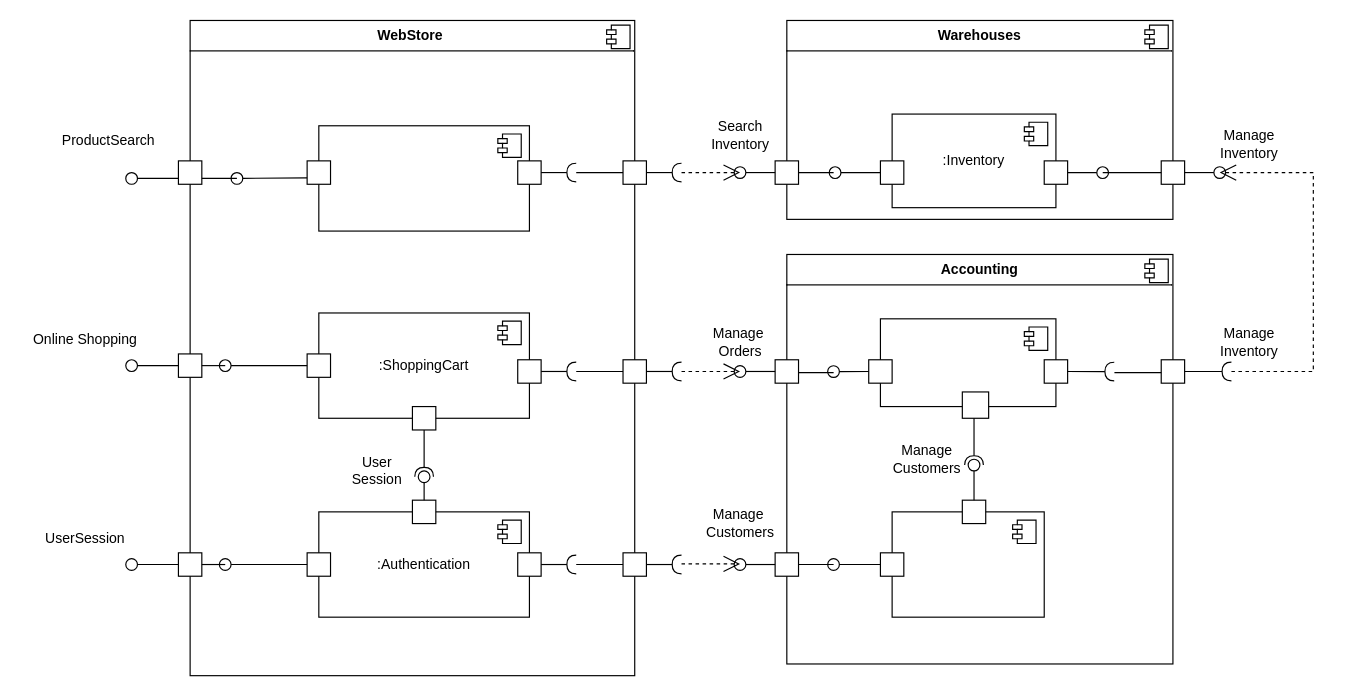
The diagram is 1350 pixels wide and 696 high, and some of its shapes have lost their labels. Each missing label, with the box of its shape:
:Customers: (891, 511, 1044, 617)
:Orders: (879, 318, 1056, 407)
:SearchEngine: (318, 125, 529, 231)
